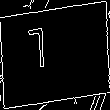L_S: (45, 28, 65, 82)
